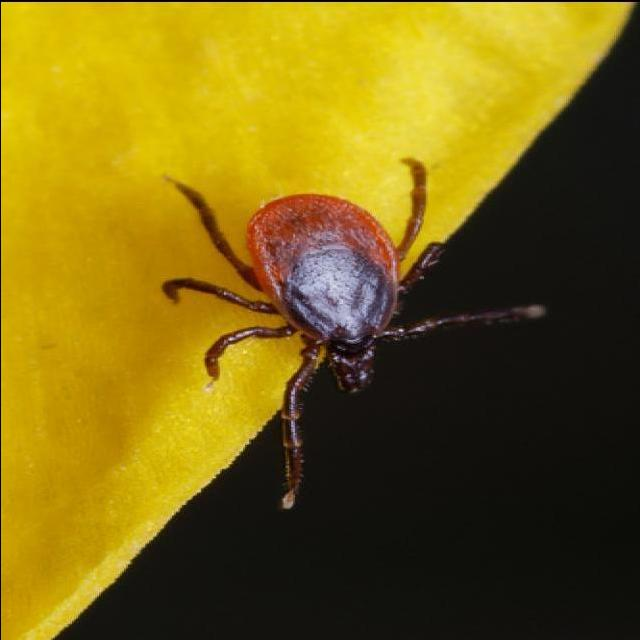Ixodes Ricinus-F: (160, 155, 546, 507)
